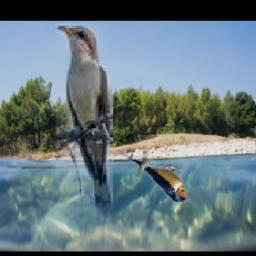Cuckoo: (55, 23, 113, 238)
Swallow: (120, 151, 190, 202)
